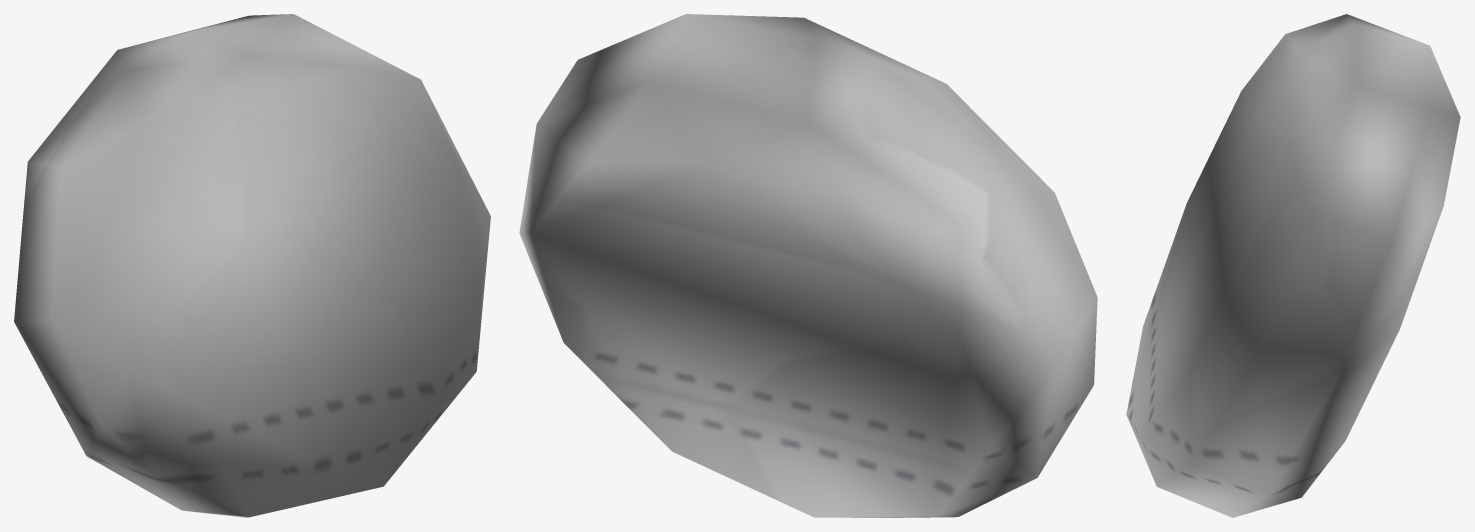
The model's file is Head_C2.fbx.
3 renders of one model, left to right at view 1: azimuth 30°, elevation 25°; view 2: azimuth 150°, elevation 25°; view 3: azimuth 270°, elevation 25°, orthographic. The views are drawn at different scales.
Parts seen in each view (by area): view 1: Civ_PeloLargoAtado_Head_C2; view 2: Civ_PeloLargoAtado_Head_C2; view 3: Civ_PeloLargoAtado_Head_C2.
Part boxes in pixels (x1,y1,x2,y2): Civ_PeloLargoAtado_Head_C2: (14, 14, 490, 517); Civ_PeloLargoAtado_Head_C2: (519, 14, 1097, 517); Civ_PeloLargoAtado_Head_C2: (1126, 14, 1460, 517).
Bounding box in the file's own units: 0.3483 × 0.3328 × 0.2259.
